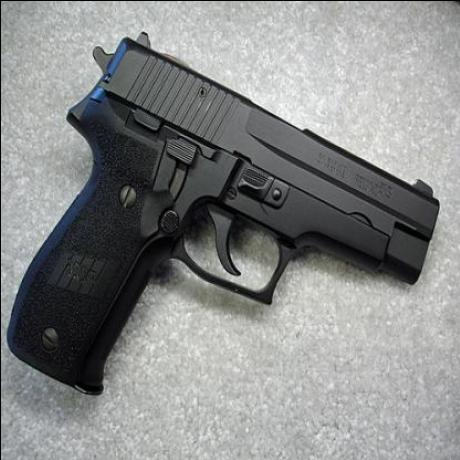weapon: (1, 27, 445, 400)
